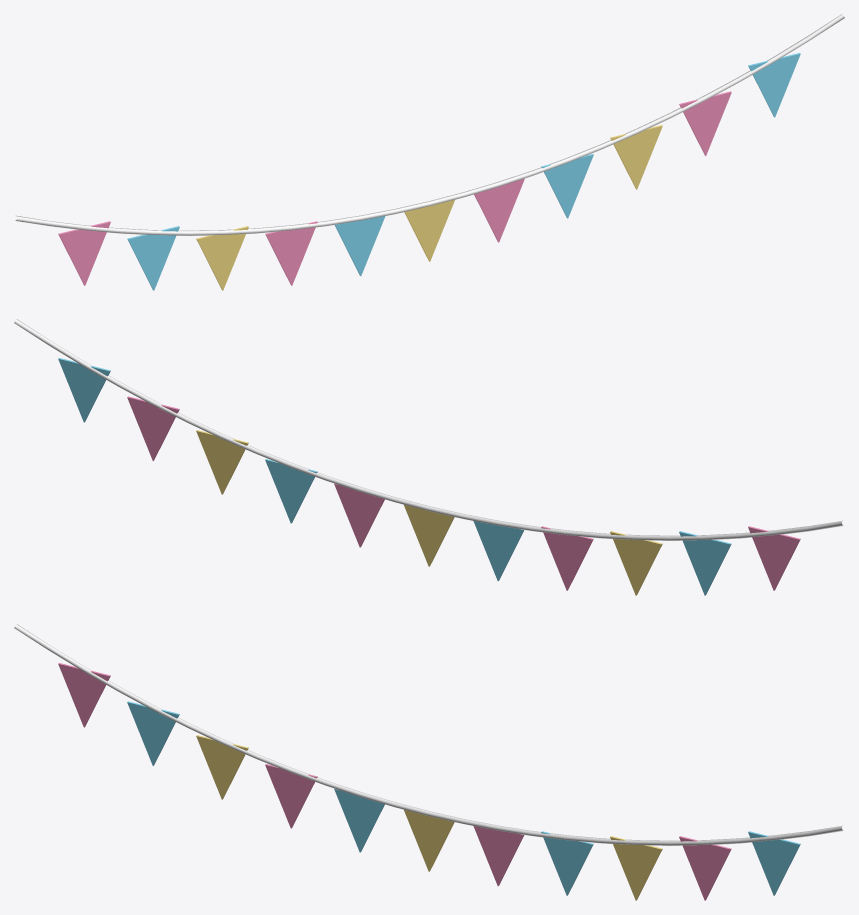
Rendered from LobbyBunting.glb.
3 renders of one model, top to bottom at view 1: azimuth 30°, elevation 25°; view 2: azimuth 150°, elevation 25°; view 3: azimuth 330°, elevation 25°, orthographic.
Parts seen in each view (by area): view 1: FlagB, FlagA, Rope, FlagC; view 2: FlagB, FlagA, Rope, FlagC; view 3: FlagA, FlagB, Rope, FlagC.
Part boxes in pixels (box(x1,y1,x2,y2)): FlagB: box(127, 53, 800, 290); FlagA: box(58, 91, 731, 285); Rope: box(15, 14, 844, 235); FlagC: box(196, 125, 662, 290); FlagB: box(58, 358, 731, 595); FlagA: box(127, 396, 800, 590); Rope: box(14, 319, 843, 540); FlagC: box(196, 430, 662, 595); FlagA: box(58, 663, 731, 900); FlagB: box(127, 701, 800, 895); Rope: box(14, 624, 843, 845); FlagC: box(196, 735, 662, 900).
Bounding box in the file's own units: 24.05 × 4.05 × 0.1331.
